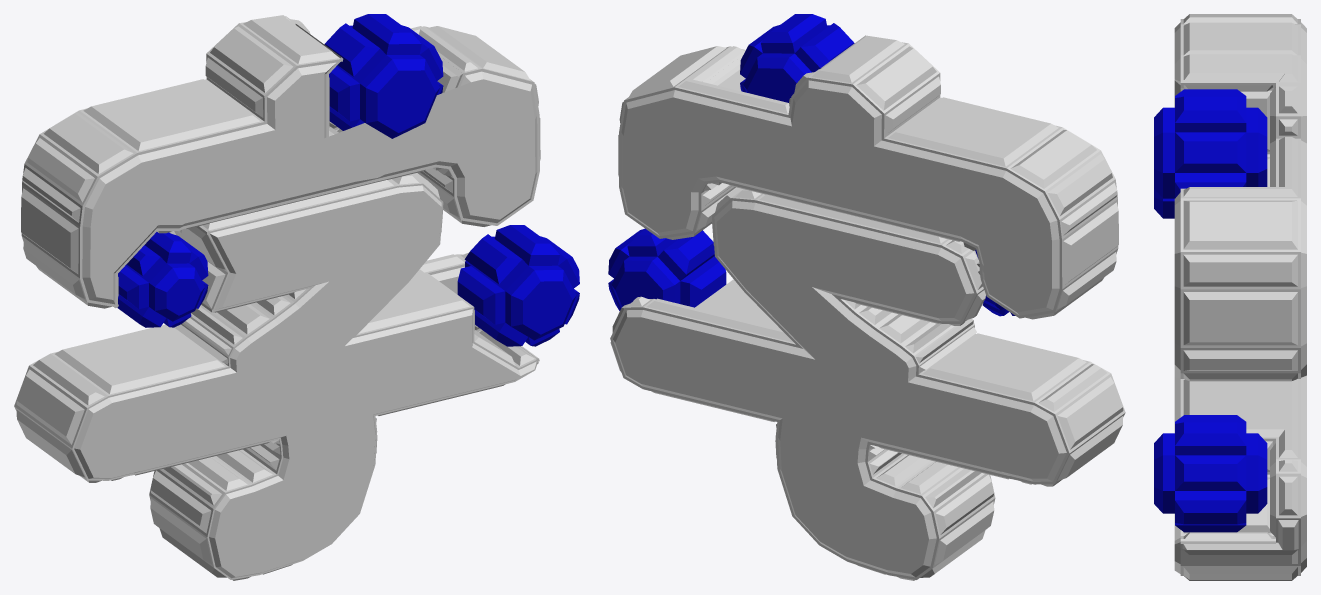
Rendered from Ch_China_字_01.fbx.
3 renders of one model, left to right at view 1: azimuth 30°, elevation 25°; view 2: azimuth 150°, elevation 25°; view 3: azimuth 270°, elevation 25°, orthographic. The views are drawn at different scales.
Visible parts, largest first — view 1: sphere1; view 2: sphere1; view 3: sphere1.
Boxes of the visible parts, x1,y1,x2,y2 form: sphere1: [14, 14, 579, 580]; sphere1: [608, 14, 1125, 580]; sphere1: [1154, 14, 1306, 580].
Bounding box in the file's own units: 1.01 × 0.9719 × 0.2541.
